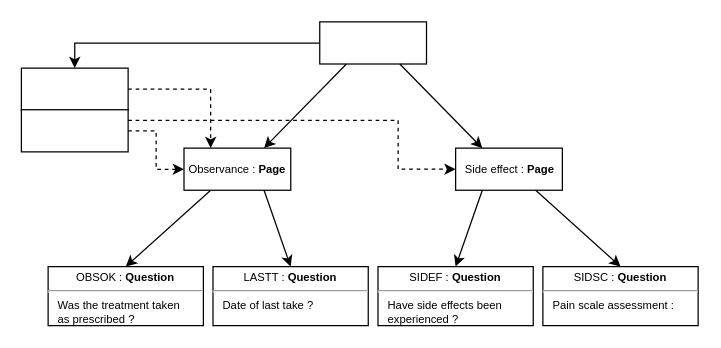
This 721x348 diagram has some shape labels left out. The shapes that lost their labels are listed below. From the top down, each one's box as (x1, y1, x2, y2) in pixels, then its label:
(318, 21, 427, 64): P11-05 : Study
(20, 67, 128, 110): Follow Up 1 : Visit
(20, 108, 128, 152): Follow Up 2 : Visit
